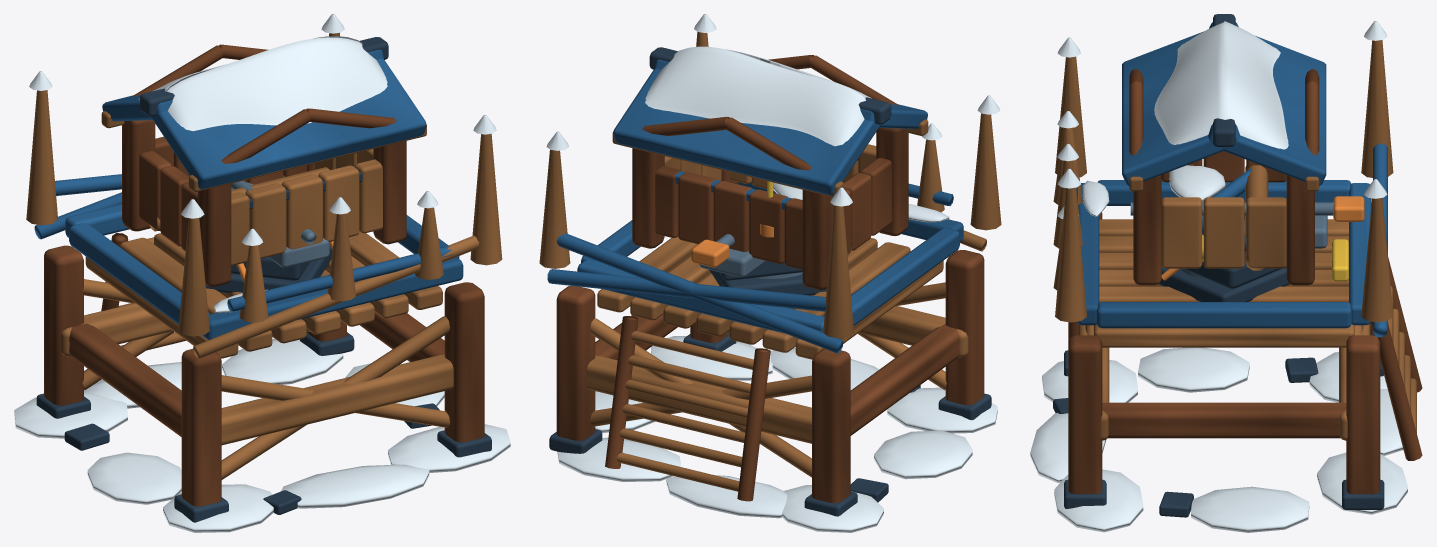
File: defense_platform.glb
3 views of the same model, side by side, from view 1: azimuth 30°, elevation 25°; view 2: azimuth 150°, elevation 25°; view 3: azimuth 270°, elevation 25° (orthographic). The views are drawn at different scales.
Parts seen in each view (by area): view 1: defense_platform; view 2: defense_platform; view 3: defense_platform.
Boxes of the visible parts, x1,y1,x2,y2 form: defense_platform: [14, 14, 510, 532]; defense_platform: [539, 14, 1001, 532]; defense_platform: [1030, 14, 1422, 532].
Size of the model in its own units: 3.02 by 3.08 by 2.76.
